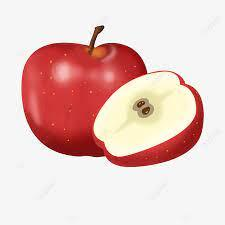Apple: (22, 23, 147, 158)
Orange: (93, 71, 204, 169)
